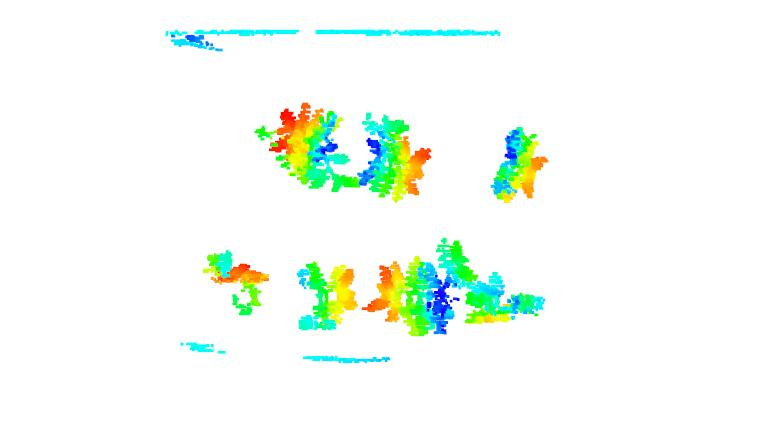chickpea: (435, 238, 547, 323), (255, 103, 361, 192), (367, 257, 457, 337), (359, 109, 434, 198), (487, 125, 549, 203), (203, 248, 270, 318), (293, 260, 358, 332)
